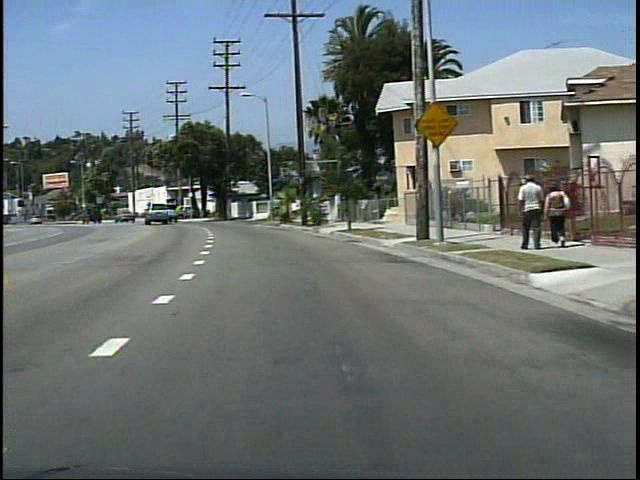person: (511, 173, 542, 253), (540, 181, 569, 248)
